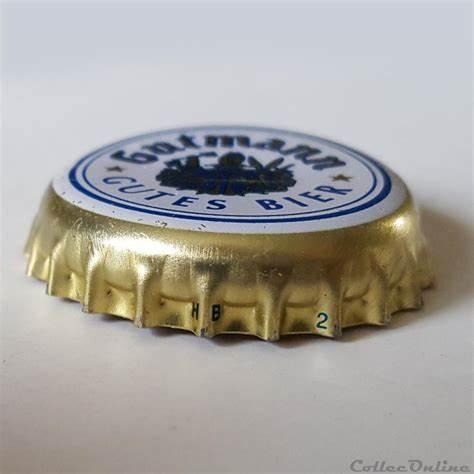metal: (25, 126, 434, 341)
